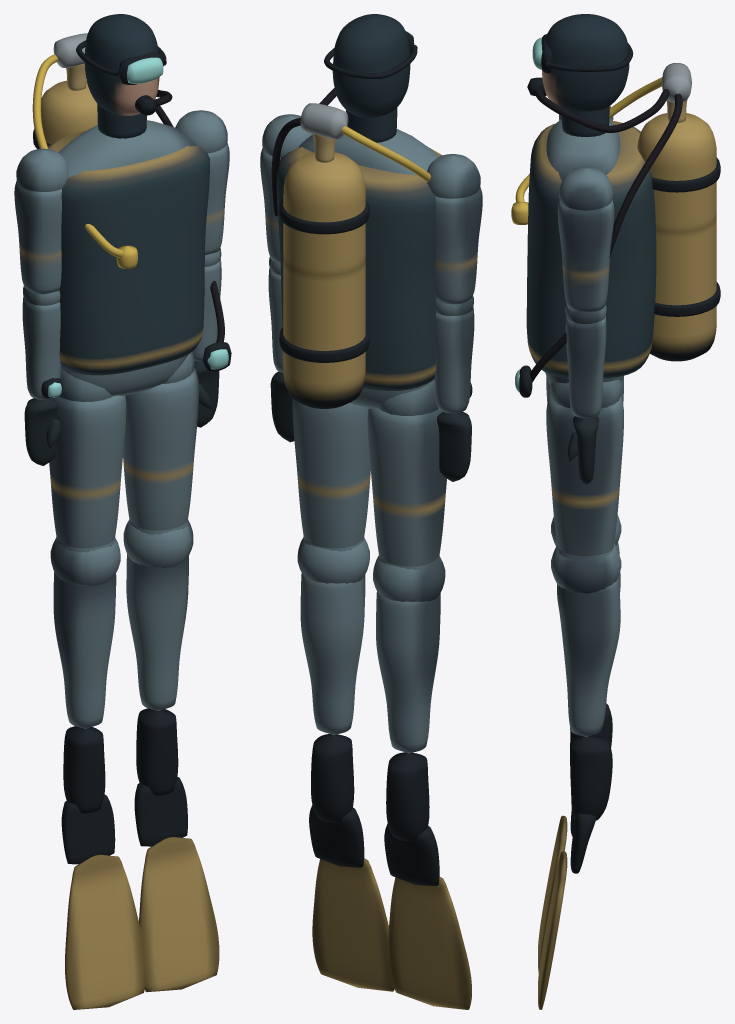
File: diver.glb
3 renders of one model, left to right at view 1: azimuth 30°, elevation 25°; view 2: azimuth 150°, elevation 25°; view 3: azimuth 270°, elevation 25°, orthographic. The views are drawn at different scales.
Visible parts, largest first — view 1: TorsoMesh, ShinLMesh, ShinRMesh, LegLMesh, LegRMesh, ArmLMesh, ForearmLMesh, ArmRMesh, ForearmRMesh; view 2: TorsoMesh, ShinLMesh, ShinRMesh, LegLMesh, LegRMesh, ArmLMesh, ForearmLMesh, ForearmRMesh, ArmRMesh; view 3: TorsoMesh, ShinRMesh, LegRMesh, ArmRMesh, ForearmRMesh, ShinLMesh.
Boxes of the visible parts, x1=… form: TorsoMesh: x1=32, y1=14, x2=231, y2=395; ShinLMesh: x1=50, y1=538, x2=144, y2=1009; ShinRMesh: x1=123, y1=520, x2=219, y2=992; LegLMesh: x1=49, y1=368, x2=126, y2=552; LegRMesh: x1=123, y1=352, x2=199, y2=534; ArmLMesh: x1=14, y1=148, x2=68, y2=294; ForearmLMesh: x1=22, y1=286, x2=62, y2=465; ArmRMesh: x1=175, y1=110, x2=229, y2=255; ForearmRMesh: x1=192, y1=248, x2=221, y2=427; TorsoMesh: x1=271, y1=14, x2=442, y2=408; ShinLMesh: x1=373, y1=556, x2=471, y2=1009; ShinRMesh: x1=297, y1=538, x2=394, y2=991; LegLMesh: x1=367, y1=380, x2=446, y2=569; LegRMesh: x1=292, y1=398, x2=370, y2=551; ArmLMesh: x1=427, y1=154, x2=482, y2=304; ForearmLMesh: x1=434, y1=296, x2=474, y2=481; ForearmRMesh: x1=268, y1=257, x2=294, y2=442; ArmRMesh: x1=260, y1=114, x2=312, y2=262; TorsoMesh: x1=511, y1=14, x2=720, y2=397; ShinRMesh: x1=538, y1=543, x2=621, y2=1009; LegRMesh: x1=546, y1=379, x2=623, y2=558; ArmRMesh: x1=557, y1=167, x2=614, y2=311; ForearmRMesh: x1=565, y1=304, x2=606, y2=484; ShinLMesh: x1=538, y1=515, x2=621, y2=972.
Bounding box in the file's own units: 0.538 × 2.4 × 0.4729.
